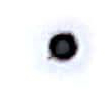cancer: (35, 15, 96, 77)
